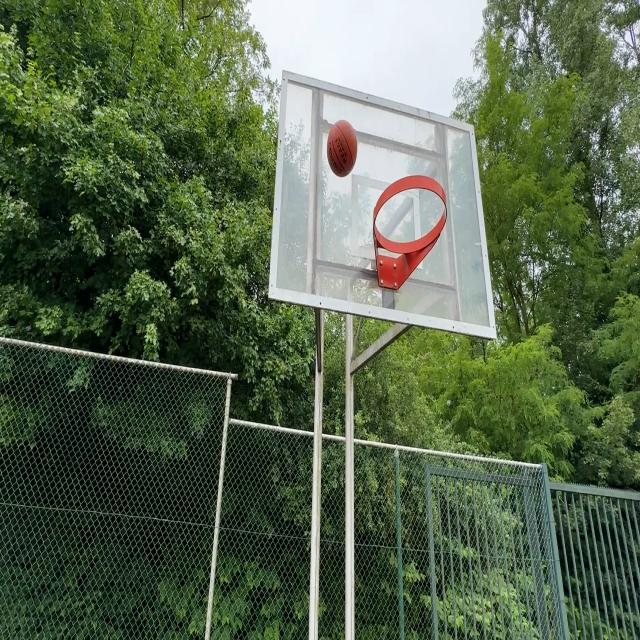rebound_hit: (327, 120, 358, 178)
